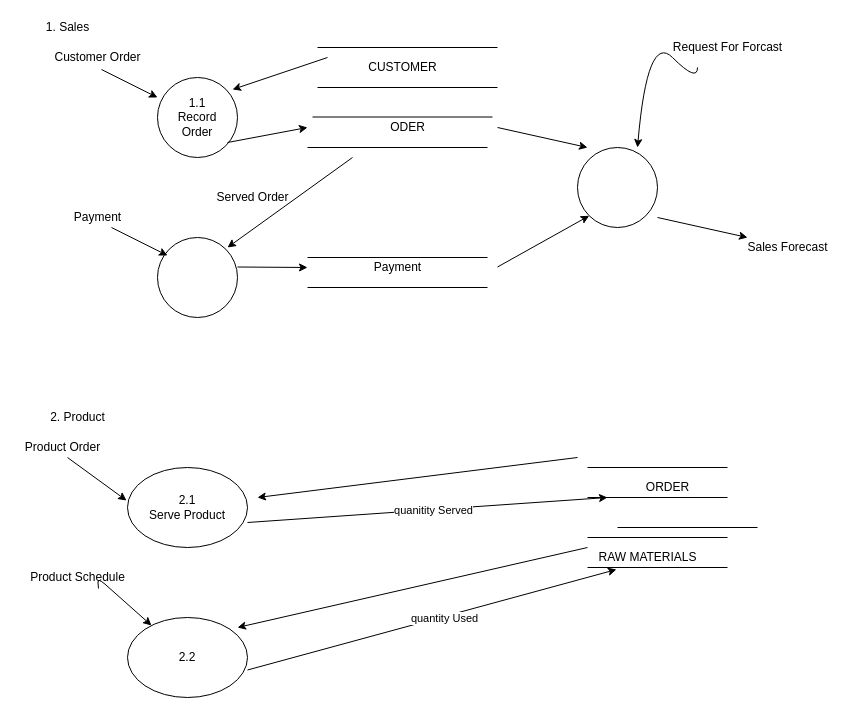
This 854x715 diagram has some shape labels left out. The centre of each missing label's shape, as x and y in pixels:
"1.2 Receive Payment" goes at point 197,277.
"1.3 Produce Sales Forecast" goes at point 617,187.
